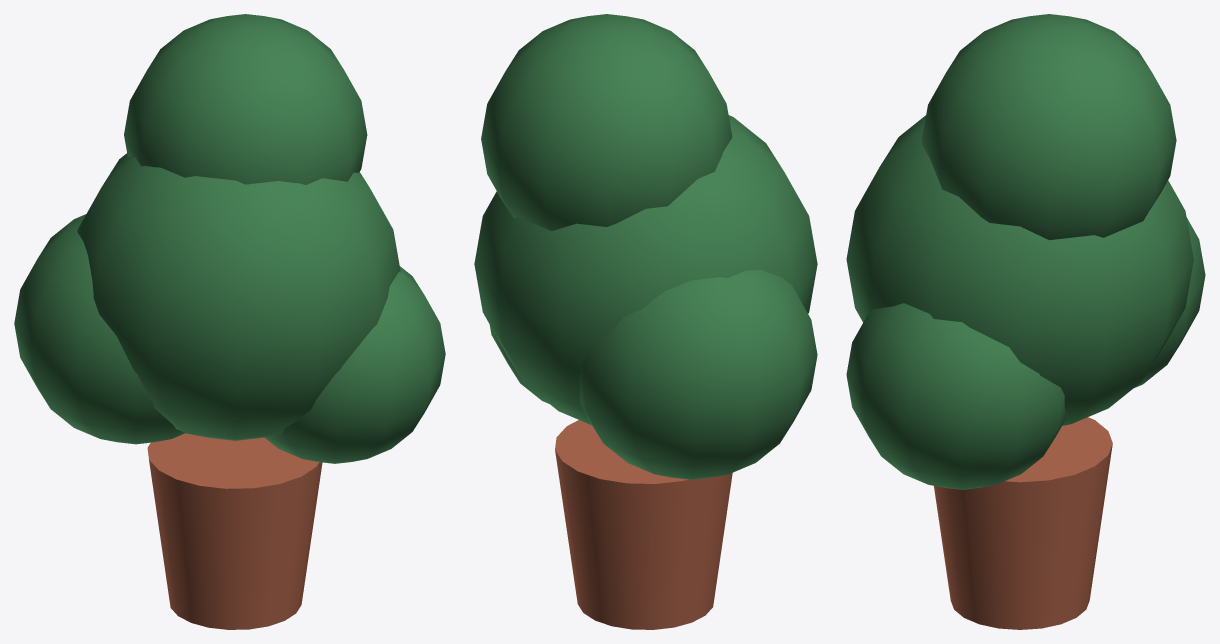
File: plant.glb
3 views of the same model, side by side, from view 1: azimuth 30°, elevation 25°; view 2: azimuth 150°, elevation 25°; view 3: azimuth 270°, elevation 25° (orthographic). The views are drawn at different scales.
Parts seen in each view (by area): view 1: plant; view 2: plant; view 3: plant.
Boxes of the visible parts, left/top/right/bottom form: plant: left=14, top=14, right=445, bottom=629; plant: left=474, top=14, right=817, bottom=629; plant: left=846, top=14, right=1205, bottom=629.
Bounding box in the file's own units: 0.72 × 1.12 × 0.62.
